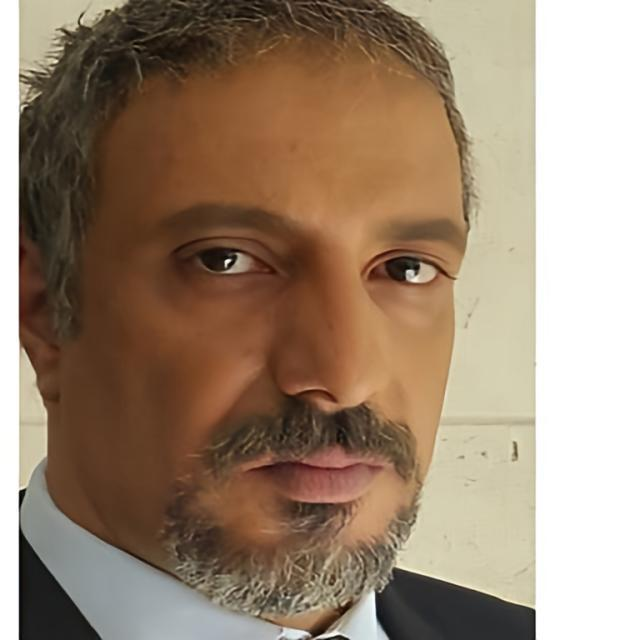neutral: (59, 36, 470, 623)
